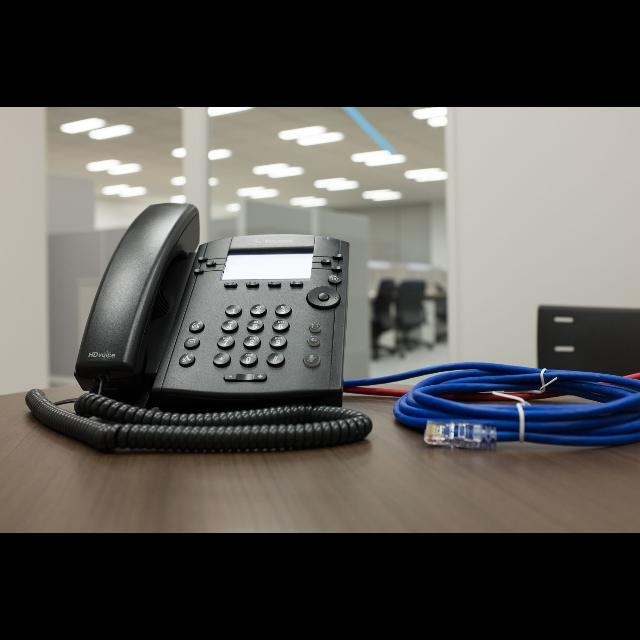Telephone-Set: (74, 198, 352, 412)
